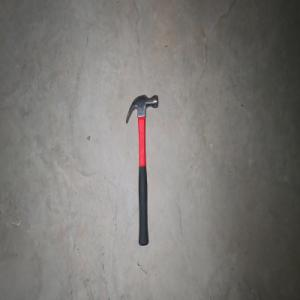Hammer: (124, 93, 158, 247)
